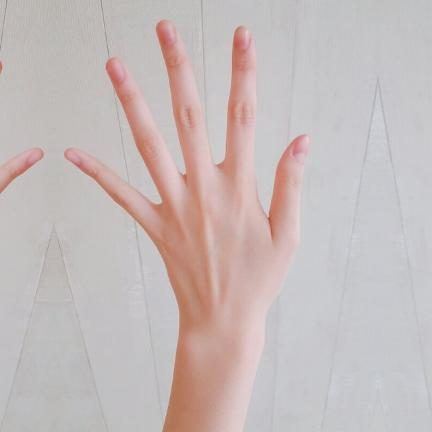Nail: (292, 133, 311, 164), (155, 20, 176, 45), (107, 58, 125, 85), (234, 26, 251, 52), (64, 151, 80, 166), (28, 151, 44, 166), (0, 61, 1, 74)
